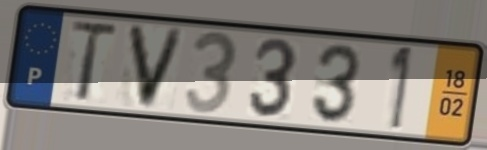1: (386, 43, 417, 136)
3: (182, 29, 243, 117), (246, 35, 302, 121), (307, 42, 364, 126)
T: (67, 19, 121, 105)
V: (124, 21, 190, 113)
